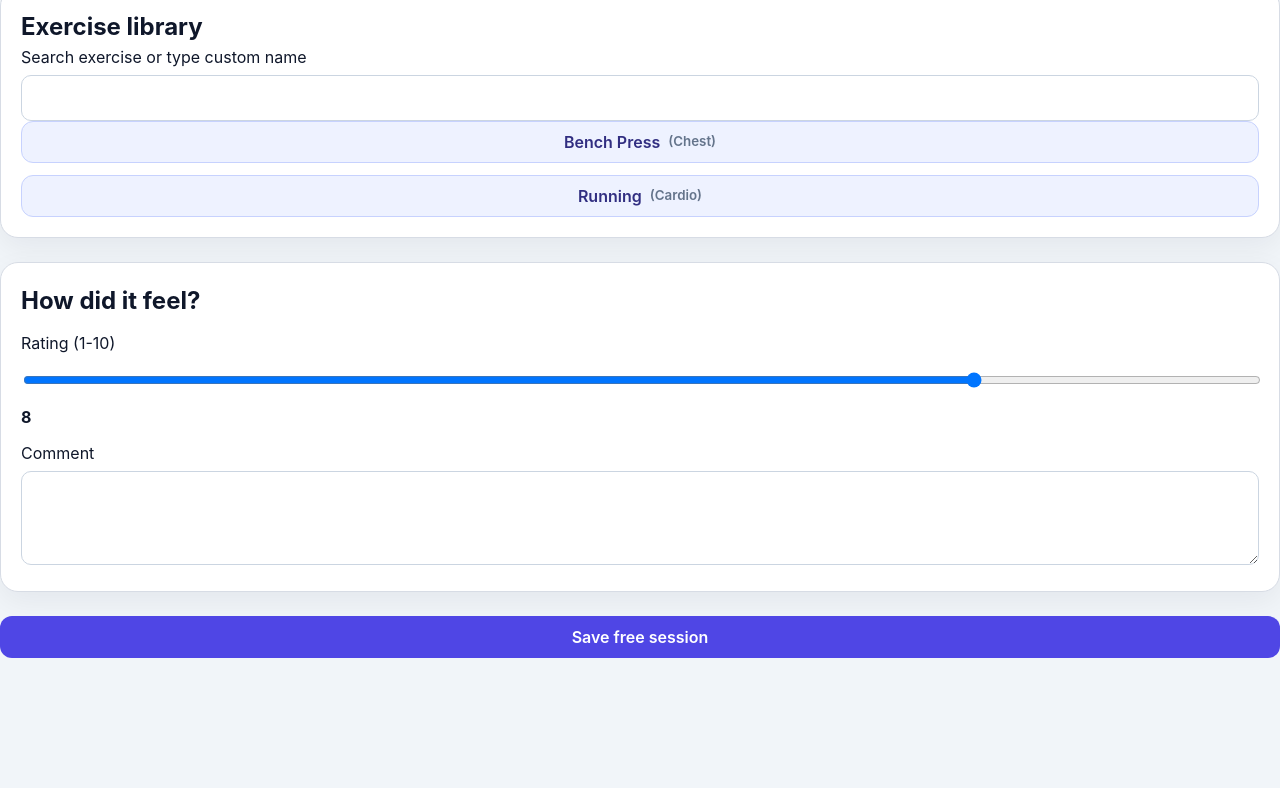
FreeSessionForm › keeps save disabled until at least one exercise is added
The image size is (1280, 788).
Expected: the button "Save free session" is disabled, [0,616,1279,658]
What coordinates should you click on to do the following:
click the button "Bench Press (Chest)"
I would click on:
 (640, 142)
Its box is [21,121,1259,163].
(page scrolled)
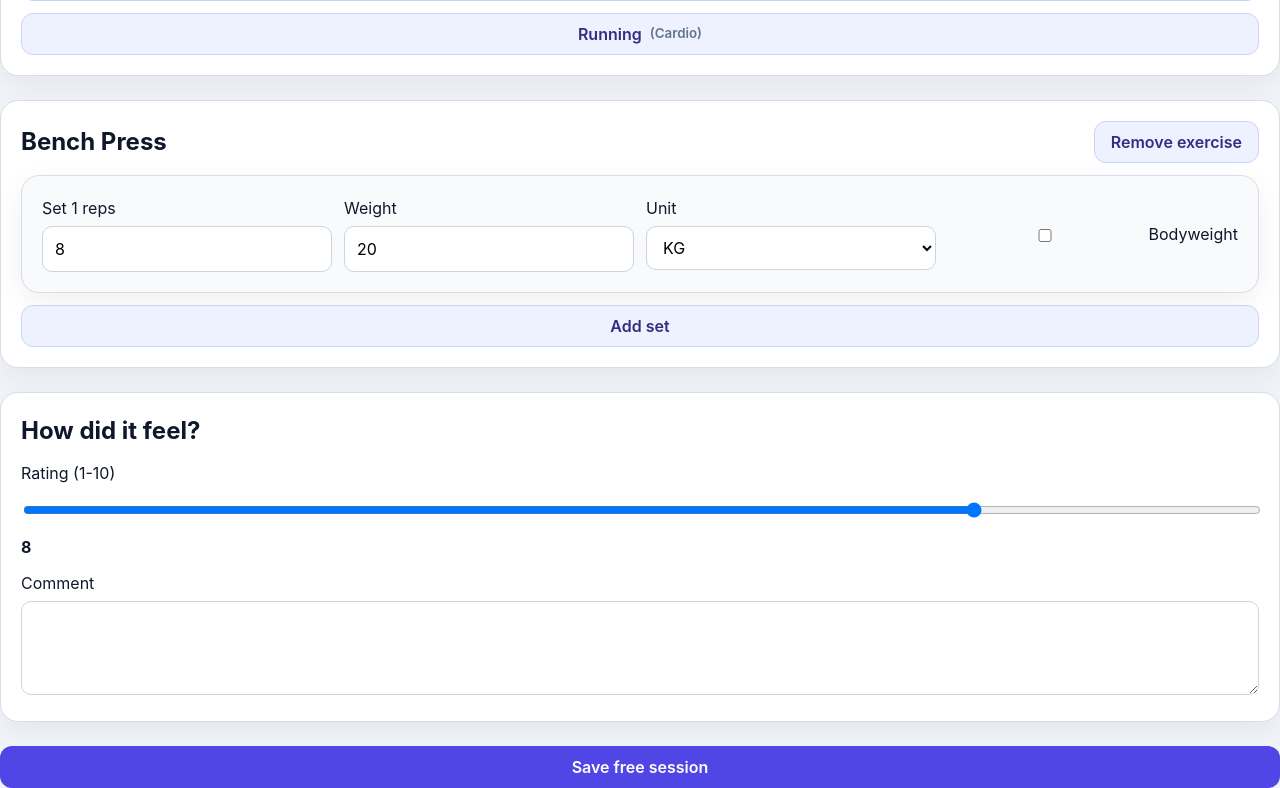
Expected: the button "Save free session" is enabled, [0,746,1279,787]
